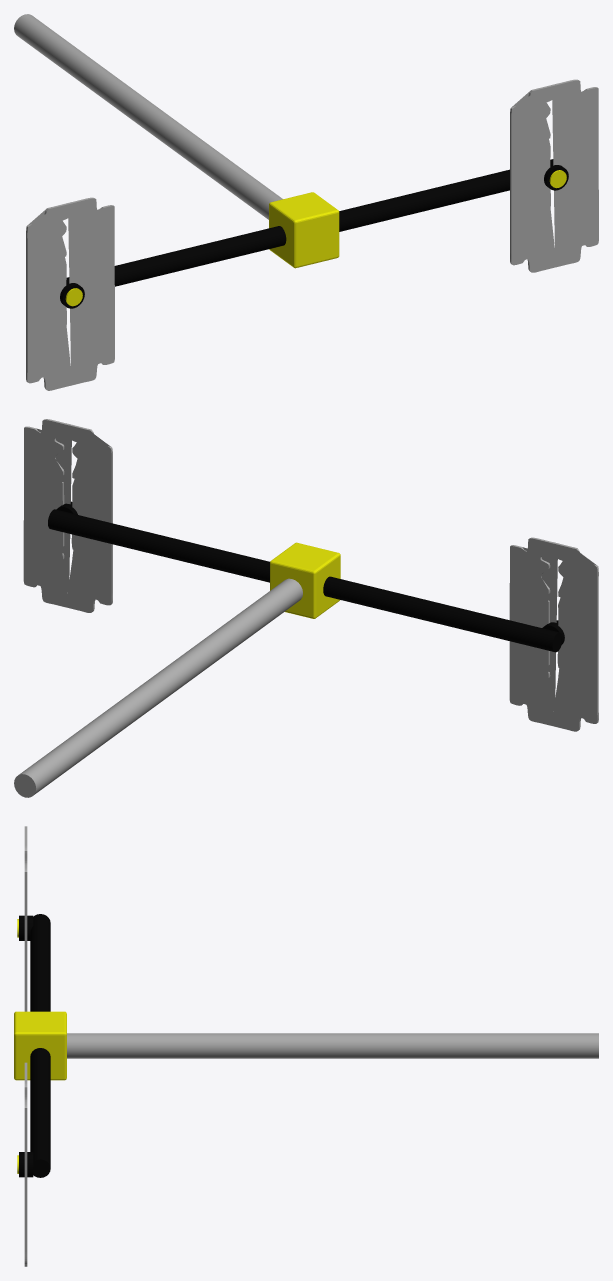
Rendered from Level11.fbx.
3 views of the same model, one above another, from view 1: azimuth 30°, elevation 25°; view 2: azimuth 150°, elevation 25°; view 3: azimuth 270°, elevation 25° (orthographic).
Visible parts, largest first — view 1: polySurface9, polySurface10, pCylinder15, pCylinder14, pCube7; view 2: polySurface10, polySurface9, pCylinder14, pCylinder15, pCube7; view 3: pCylinder15, pCylinder14, pCube7, polySurface9, polySurface10.
Boxes of the visible parts, bbox=[...] form: polySurface9: bbox=[510, 79, 598, 272]; polySurface10: bbox=[26, 197, 114, 390]; pCylinder15: bbox=[14, 14, 282, 219]; pCylinder14: bbox=[66, 159, 553, 286]; pCube7: bbox=[269, 192, 339, 268]; polySurface10: bbox=[509, 537, 598, 731]; polySurface9: bbox=[23, 419, 112, 612]; pCylinder14: bbox=[48, 509, 561, 652]; pCylinder15: bbox=[14, 578, 302, 797]; pCube7: bbox=[270, 542, 340, 618]; pCylinder15: bbox=[67, 1033, 598, 1058]; pCylinder14: bbox=[30, 914, 50, 1177]; pCube7: bbox=[14, 1011, 66, 1080]; polySurface9: bbox=[24, 1062, 27, 1266]; polySurface10: bbox=[24, 826, 27, 1011].
Size of the model in its own units: 22.23 by 6.77 by 19.69.
